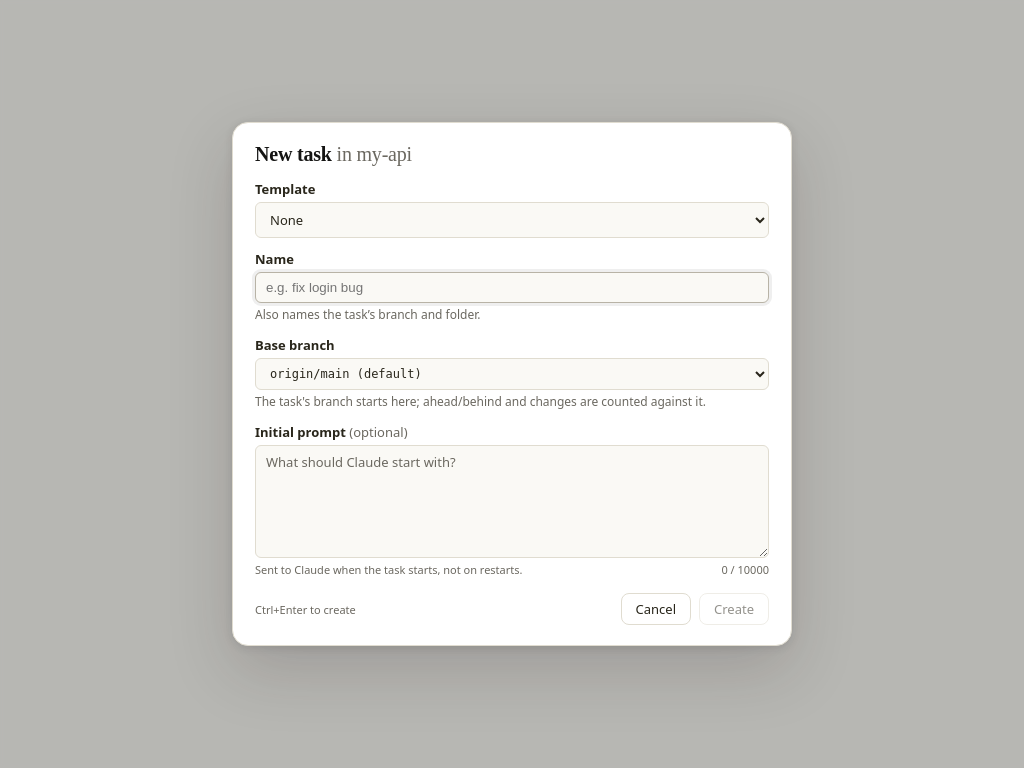
it: NewTaskDialog templates › keeps what was typed when a template doesn't set that field, and clears what a template filled in
Expected: the dropdown labelled "Base branch" is enabled, [255,358,769,390]
Type "mine" into the field labelled "Name" at (512, 288), box [255,272,769,303]
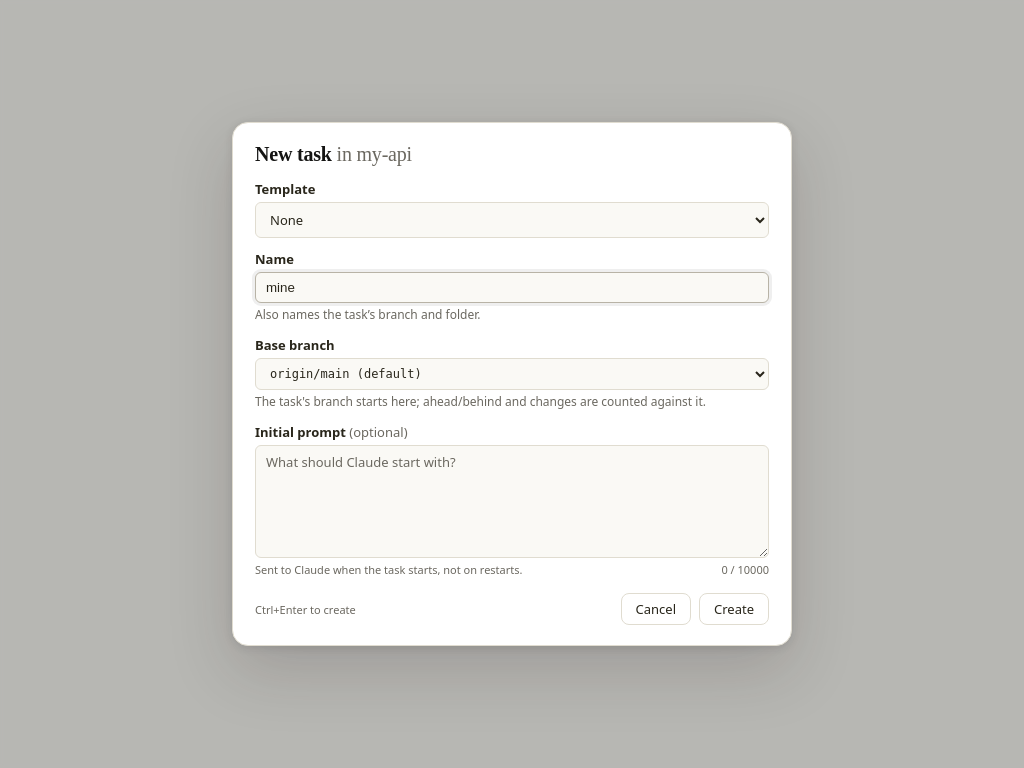
Select "Explain" in the dropdown labelled "Template" at (512, 220), box [255,202,769,238]
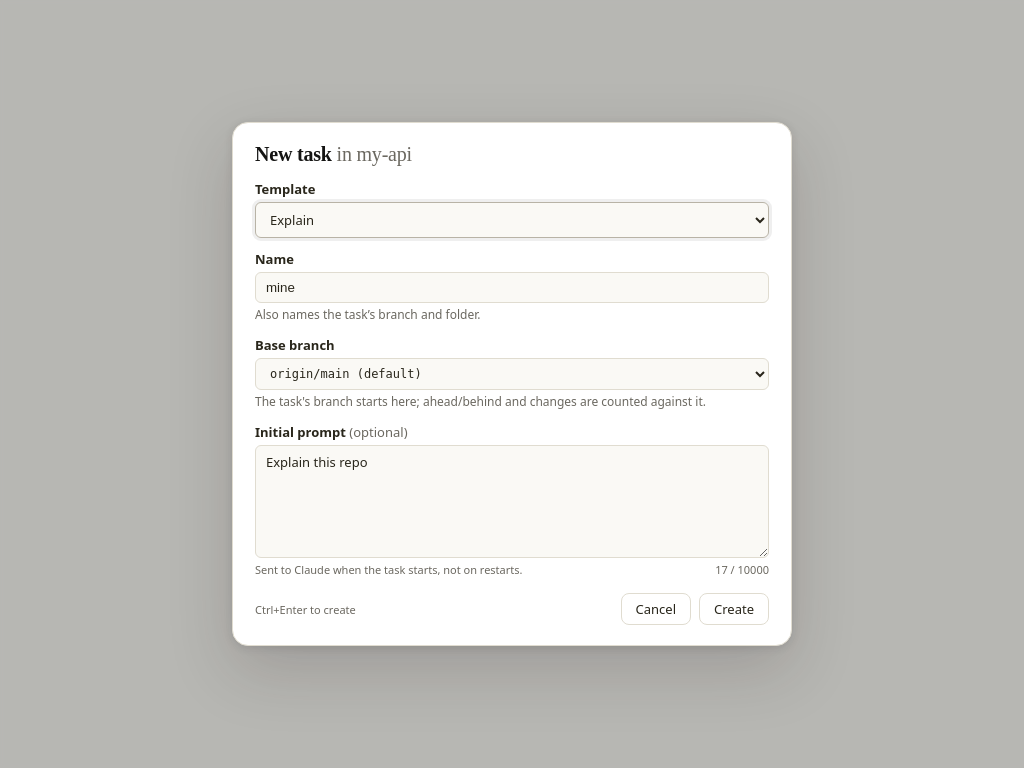
Expected: the text box labelled "Initial prompt (optional)" holds "Explain this repo", [255,444,769,558]
Select "Review" in the dropdown labelled "Template" at (512, 220), box [255,202,769,238]
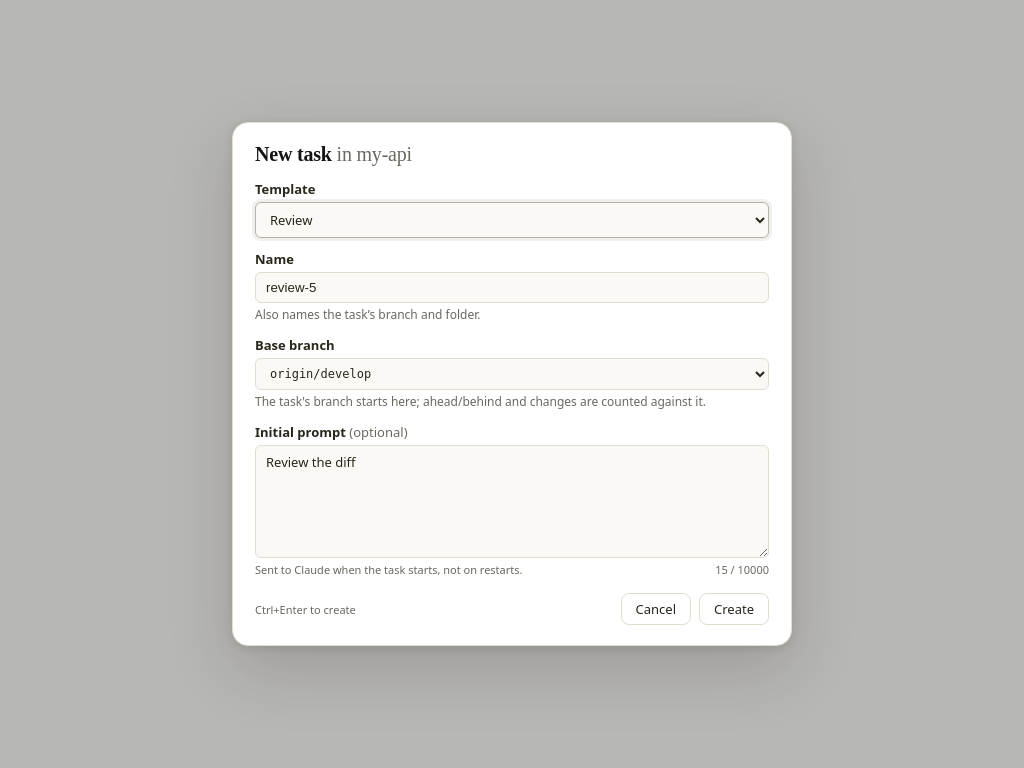
Expected: the field labelled "Name" holds "review-5", [255,272,769,303]
Expected: the text box labelled "Initial prompt (optional)" holds "Review the diff", [255,444,769,558]
Select "None" in the dropdown labelled "Template" at (512, 220), box [255,202,769,238]
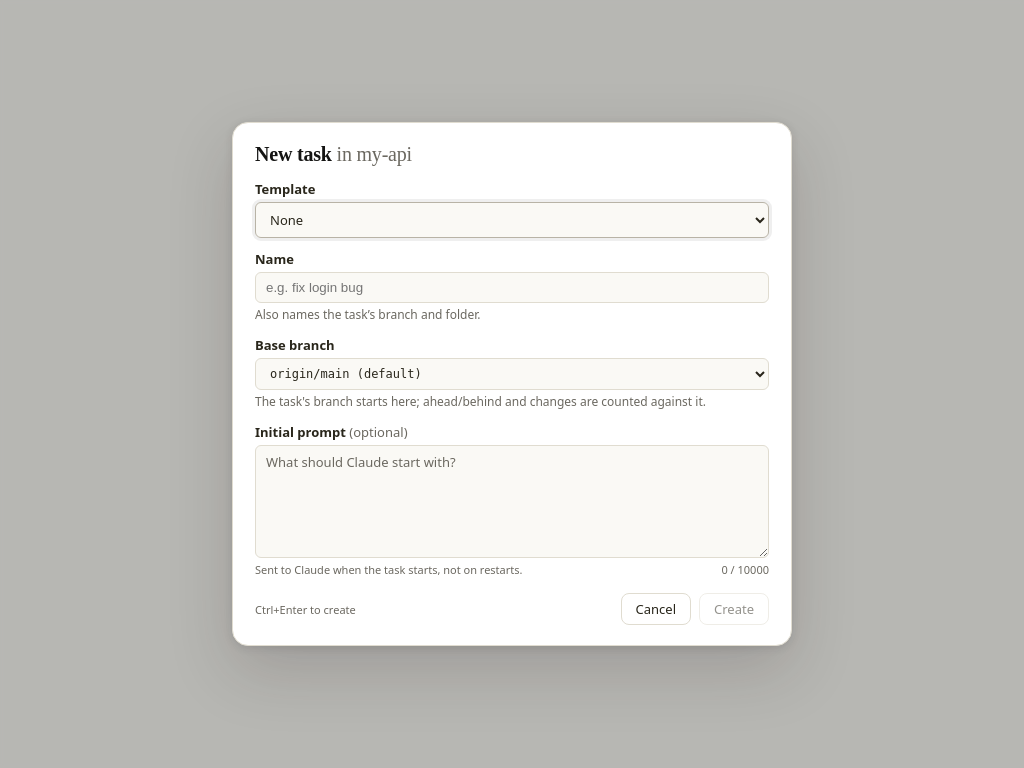
Expected: the field labelled "Name" is empty, [255,272,769,303]
Expected: the text box labelled "Initial prompt (optional)" is empty, [255,444,769,558]
Expected: the dropdown labelled "Base branch" shows "origin/main (default)", [255,358,769,390]
